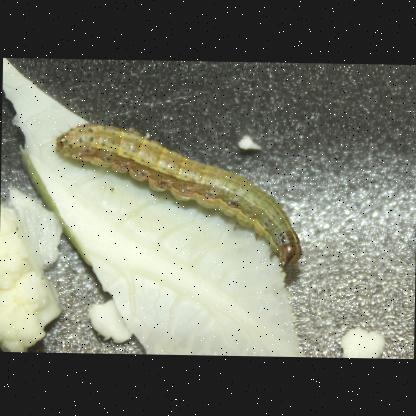Fall Armyworm Larvae: (48, 117, 306, 276)
